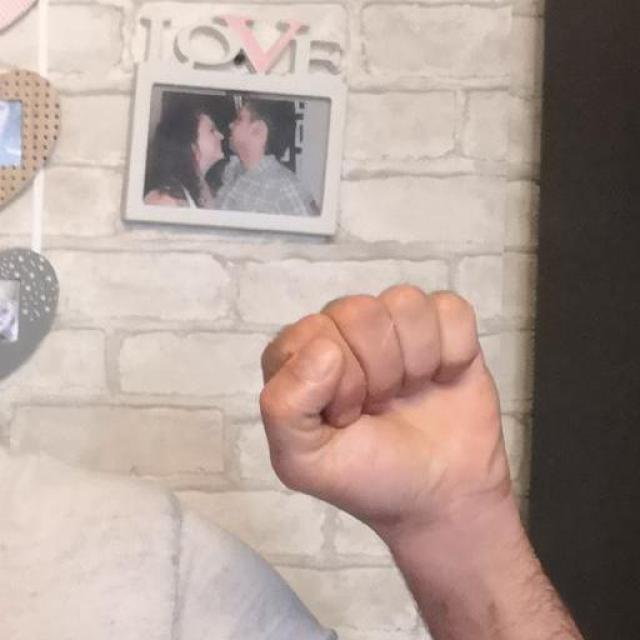hand: (257, 281, 515, 534)
